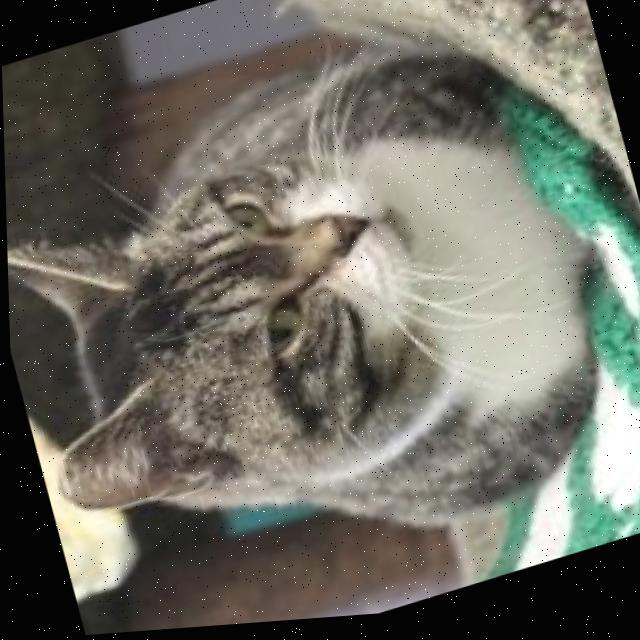British Shorthair: (1, 1, 640, 640)
